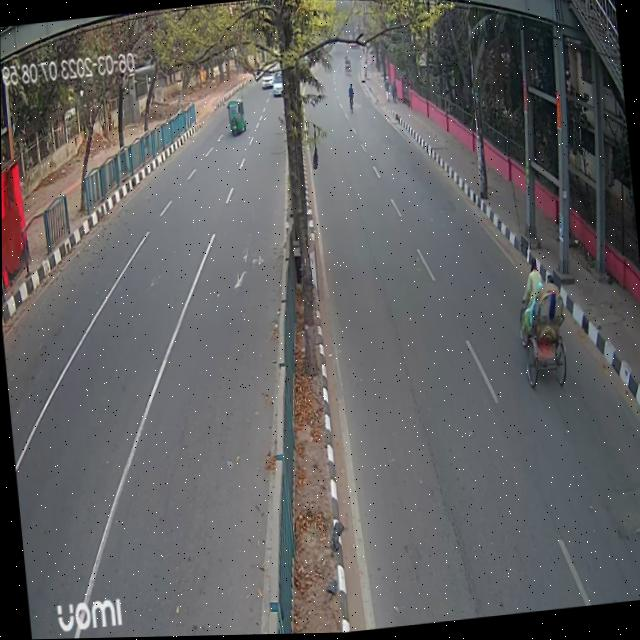cng: (226, 93, 246, 141)
rikshaw: (507, 257, 575, 393)
